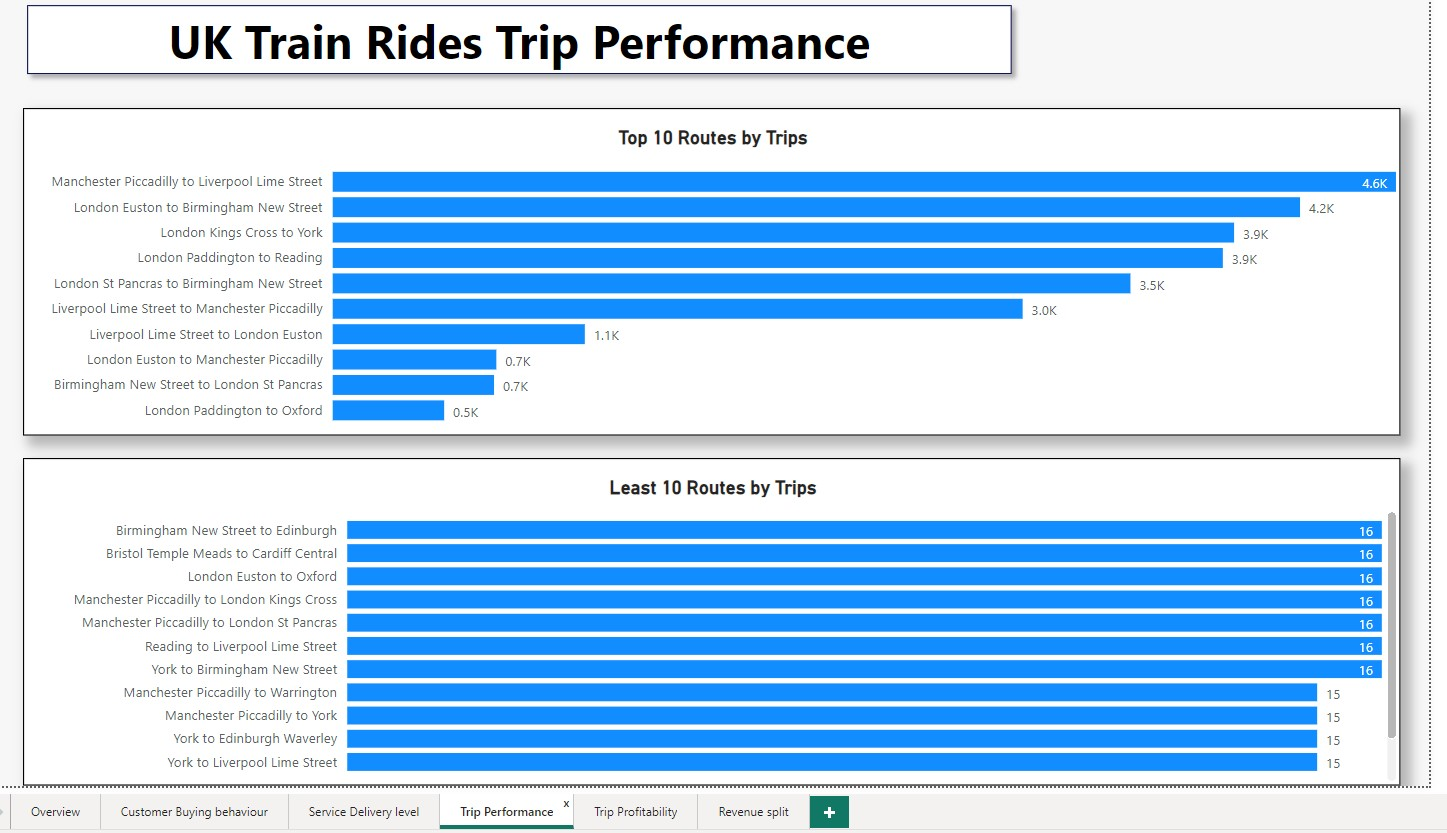

The page's visual inventory and layout, read from the dashboard file:
{"tool":"powerbi","page":{"name":"Trip Performance","canvas":[1280,720],"ordinal":6},"visuals":[{"type":"clusteredBarChart","title":"Top 10 Routes by Trips","fields":{"Category":["railway_clean_data.Route"],"Y":["CountNonNull(railway_clean_data.Transaction ID)"]},"box":[23.3,113.8,1232.3,292.8],"z":0},{"type":"clusteredBarChart","title":"Least 10 Routes by Trips","fields":{"Category":["railway_clean_data.Route"],"Y":["CountNonNull(railway_clean_data.Transaction ID)"]},"box":[23.3,427,1232.3,292.8],"z":1000},{"type":"shape","box":[17.5,12.6,898.7,79.8],"z":2000}]}

Visuals, with their boxes on the page's 1280x720 design canvas (x1, y1, x2, y2). These are canvas units, not pixel positions in the 1447x833 screenshot, which may show the page scaled, cropped or inside an application window:
"Top 10 Routes by Trips" clusteredBarChart: (23, 114, 1256, 407)
"Least 10 Routes by Trips" clusteredBarChart: (23, 427, 1256, 720)
shape: (18, 13, 916, 92)
